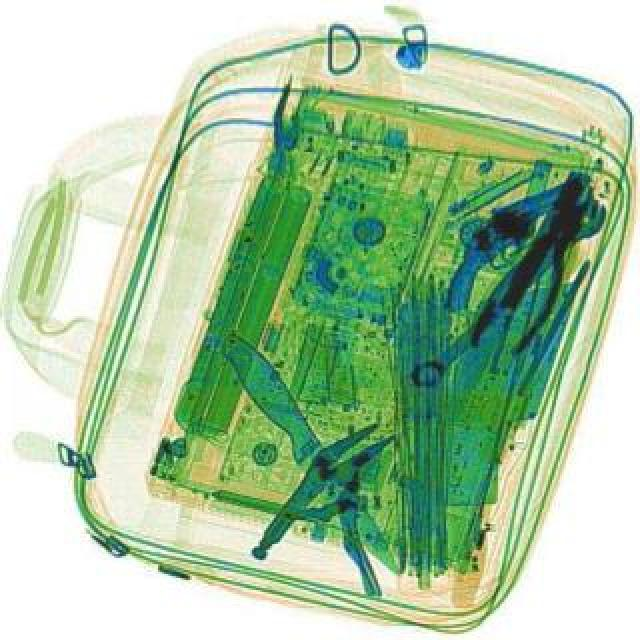gun: (418, 170, 618, 312)
knife: (214, 324, 418, 584), (424, 156, 562, 468)
scissors: (406, 190, 614, 394)
wrench: (468, 160, 614, 368)
